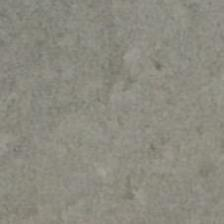Non_Crack: (8, 0, 212, 220)
